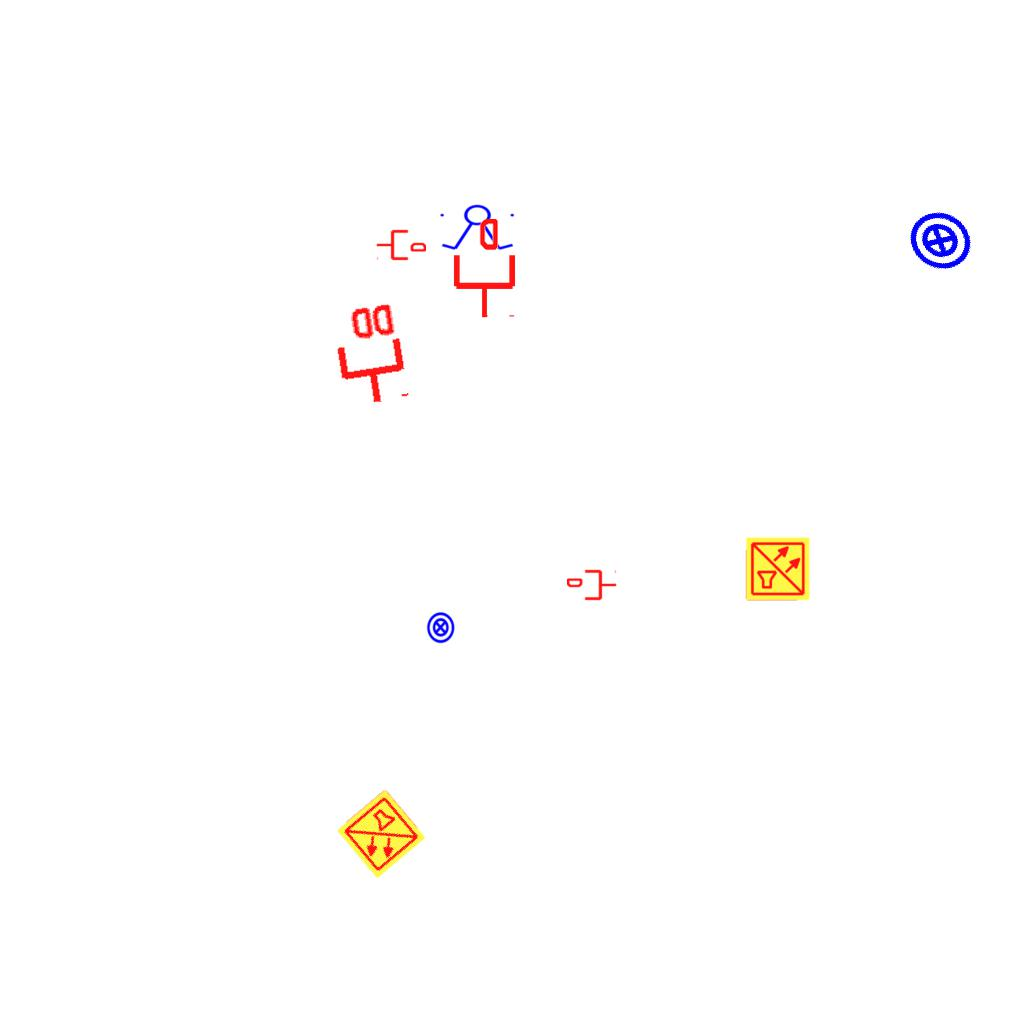Datenanschluss_einfach: (450, 219, 519, 319), (376, 228, 426, 262), (567, 568, 617, 602)
Datenanschluss_zweifach: (326, 298, 411, 411)
OKW_Multisensormelder_(Kombination_optischer_Rauch-Kahlenmonoxid_Waerme-Melder): (334, 787, 428, 881), (745, 536, 811, 602)
Serienschalter: (436, 204, 520, 252)
Taster_beleuchtet: (895, 196, 985, 286), (424, 611, 457, 644)
